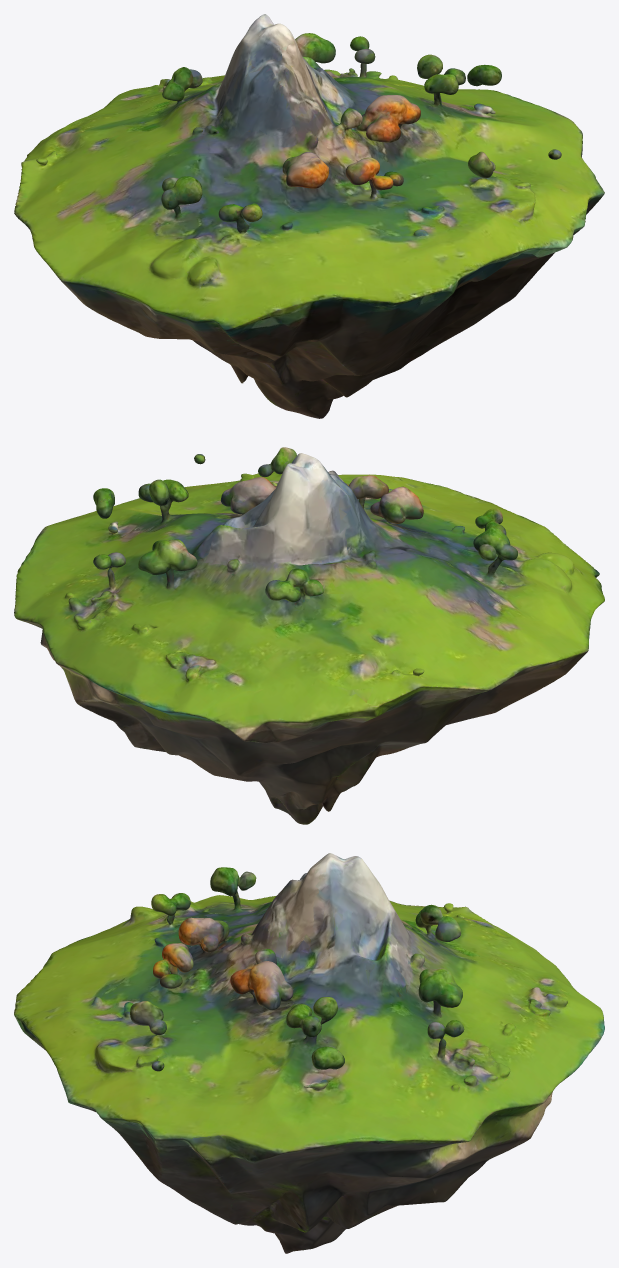
The model's file is Magical_floating_isla.glb.
3 views of the same model, one above another, from view 1: azimuth 30°, elevation 25°; view 2: azimuth 150°, elevation 25°; view 3: azimuth 270°, elevation 25° (orthographic). The views are drawn at different scales.
Parts seen in each view (by area): view 1: Magical_floating_isla; view 2: Magical_floating_isla; view 3: Magical_floating_isla.
Part boxes in pixels (x1=…): Magical_floating_isla: x1=14, y1=14, x2=604, y2=418; Magical_floating_isla: x1=14, y1=447, x2=604, y2=824; Magical_floating_isla: x1=14, y1=853, x2=604, y2=1253.
Bounding box in the file's own units: 1.99 × 1.36 × 1.89.
1 material, 1 textured.
